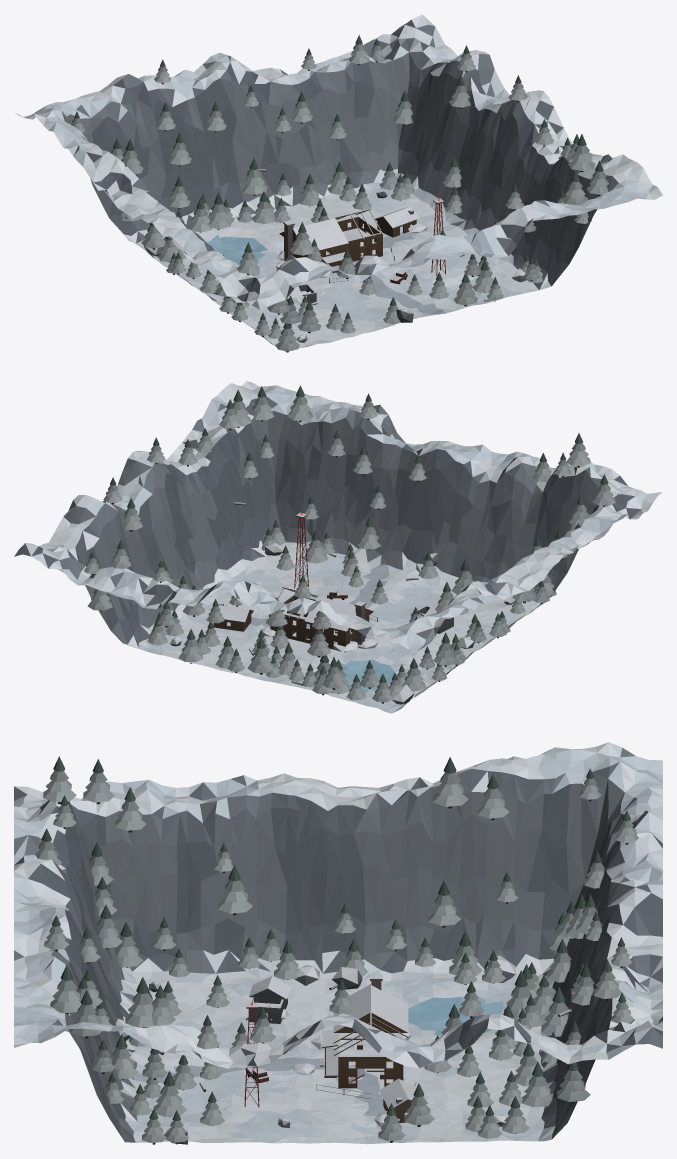
The model's file is snowy_lodge.glb.
3 renders of one model, top to bottom at view 1: azimuth 30°, elevation 25°; view 2: azimuth 150°, elevation 25°; view 3: azimuth 270°, elevation 25°, orthographic. The views are drawn at different scales.
Visible parts, largest first — view 1: Map_Static; view 2: Map_Static; view 3: Map_Static.
Part boxes in pixels (x1,y1,x2,y2): Map_Static: [15, 14, 662, 352]; Map_Static: [14, 381, 662, 713]; Map_Static: [14, 742, 662, 1144].
Bounding box in the file's own units: 120 × 44.32 × 120.
